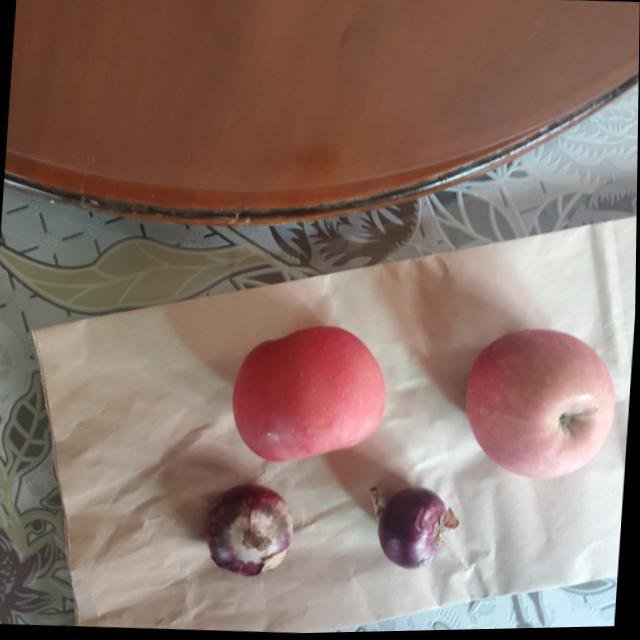apple: (456, 321, 628, 494), (226, 327, 393, 477)
onion: (203, 481, 303, 586), (363, 483, 454, 573)
